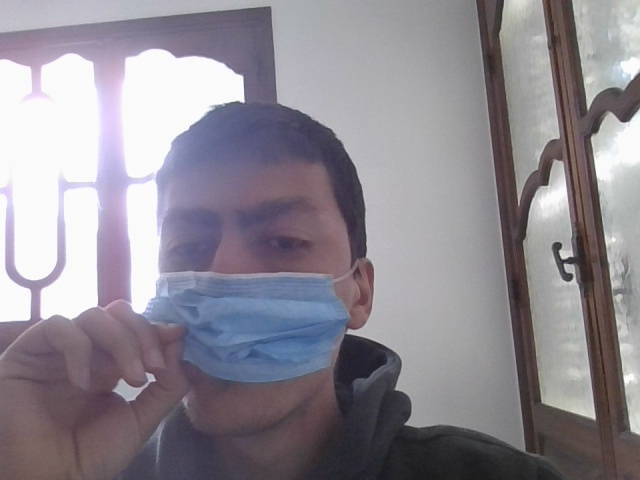mask_weared_incorrect: (146, 129, 366, 421)
